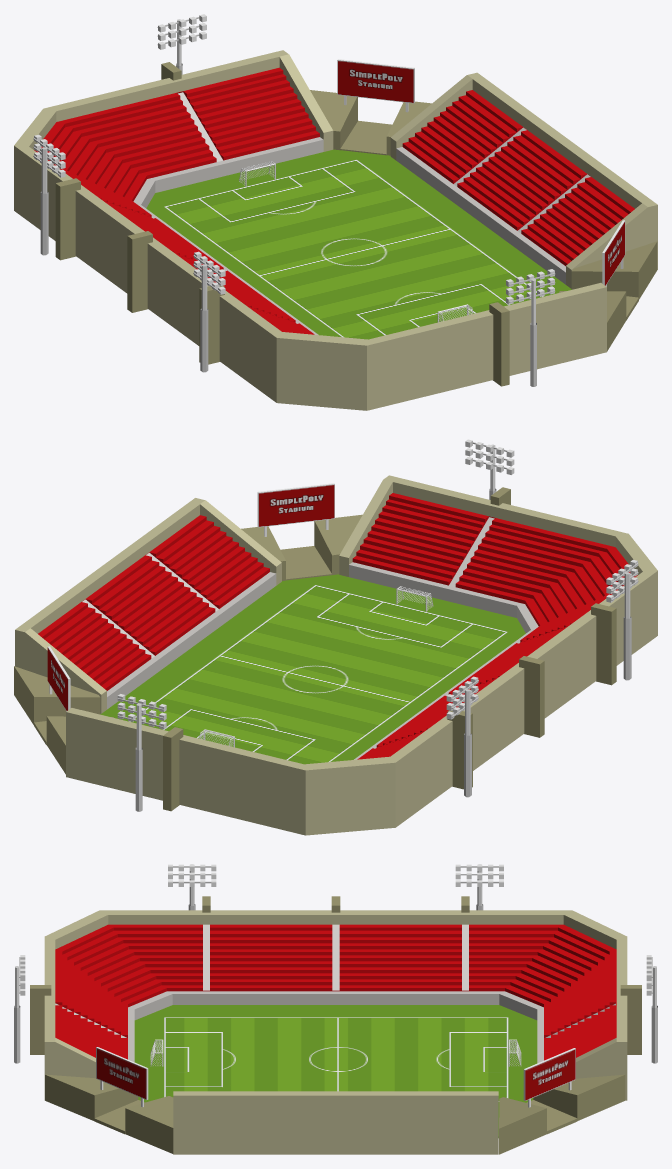
Rendered from Building_Stadium.fbx.
3 renders of one model, top to bottom at view 1: azimuth 30°, elevation 25°; view 2: azimuth 150°, elevation 25°; view 3: azimuth 270°, elevation 25°, orthographic. The views are drawn at different scales.
Visible parts, largest first — view 1: Building_Stadium; view 2: Building_Stadium; view 3: Building_Stadium.
Boxes of the visible parts, box(x1,y1,x2,y2) form: Building_Stadium: box(14, 14, 657, 410); Building_Stadium: box(14, 439, 657, 835); Building_Stadium: box(14, 864, 657, 1154).
Size of the model in its own units: 32.27 by 7.46 by 44.76.
1 material, 1 textured.
